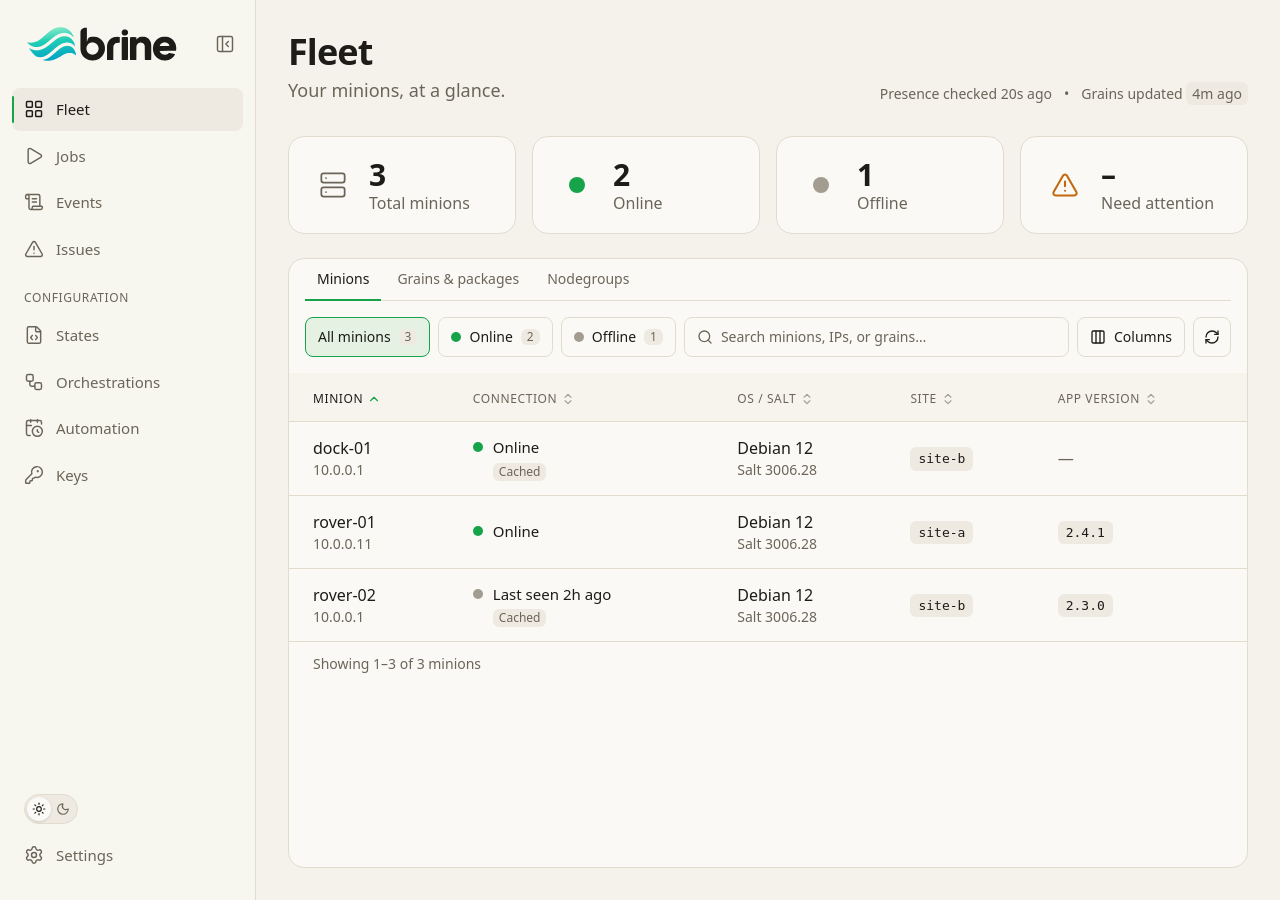
Test: FleetPage › lets you add, reorder, remove, and reset grain columns
Expected: the link "rover-01" is shown, [313, 510, 376, 532]
Click the button "Columns".
click(1131, 337)  # box [1077, 317, 1185, 357]
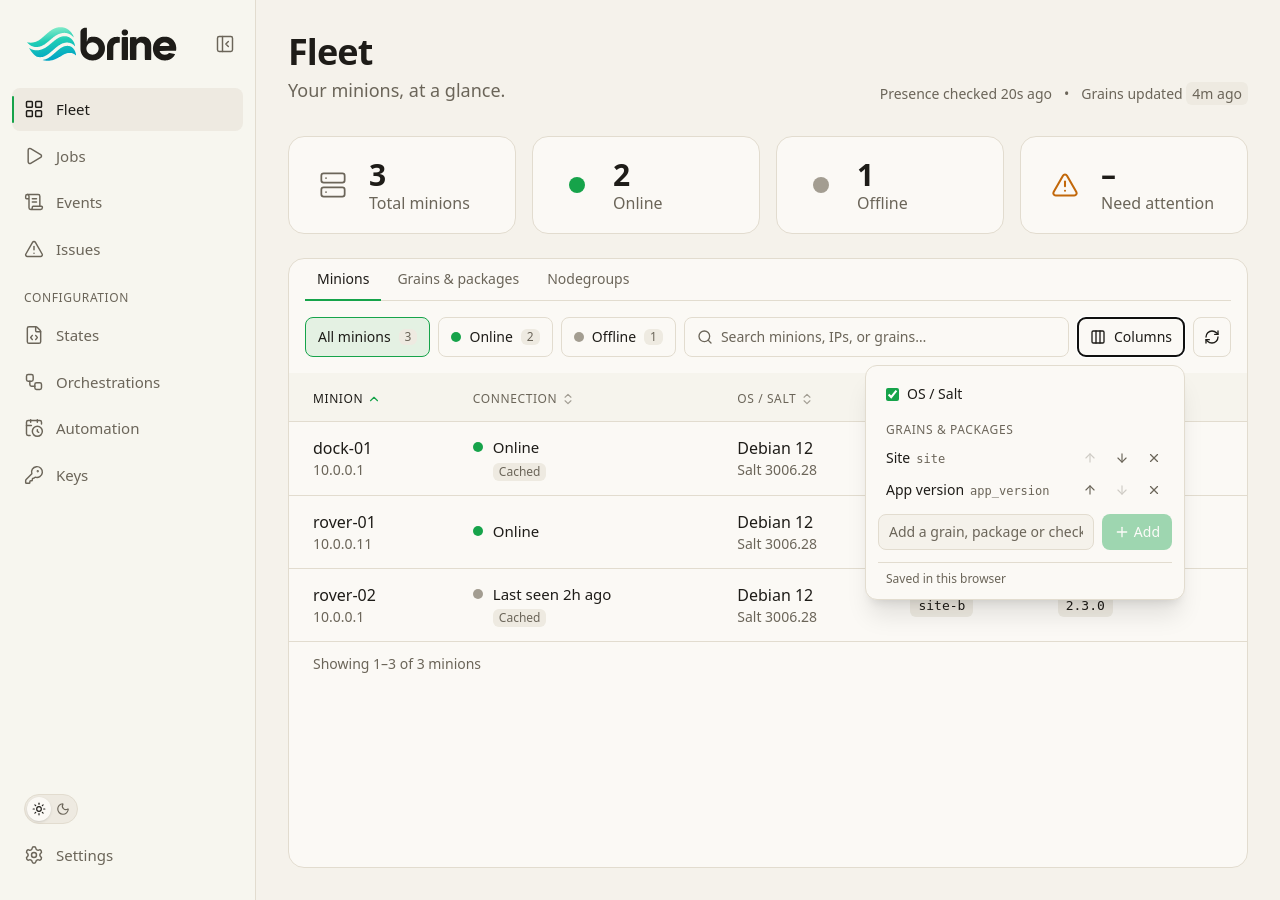
Type "osfinger" into the dropdown labelled "Add a grain, package or check".
click(986, 532); type("osfinger")  # box [878, 514, 1094, 550]
Then press Enter
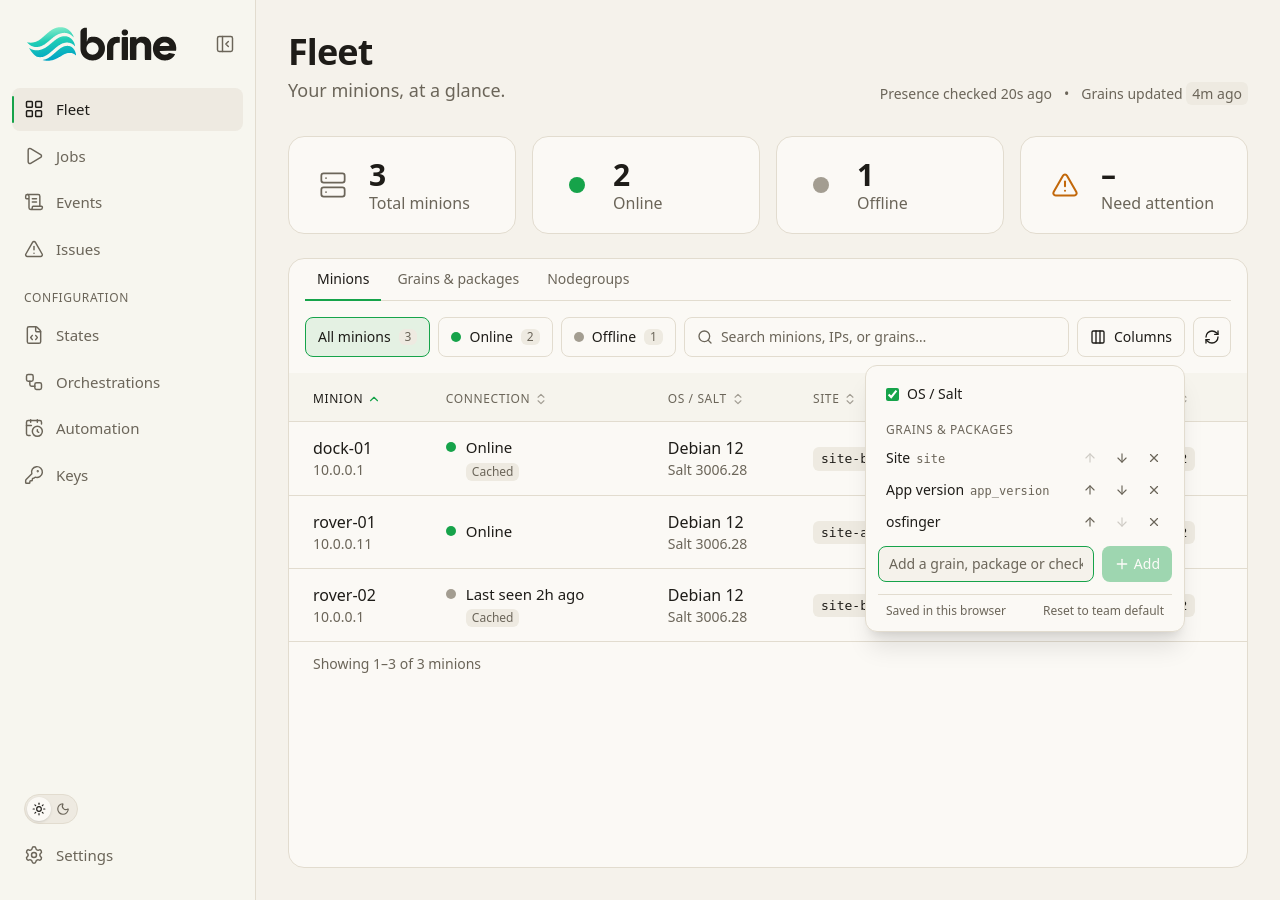
Expected: the column heading "osfinger" is shown, [1093, 373, 1247, 422]
Click the button named "Move osfinger left".
click(1090, 522)  # box [1076, 508, 1104, 536]
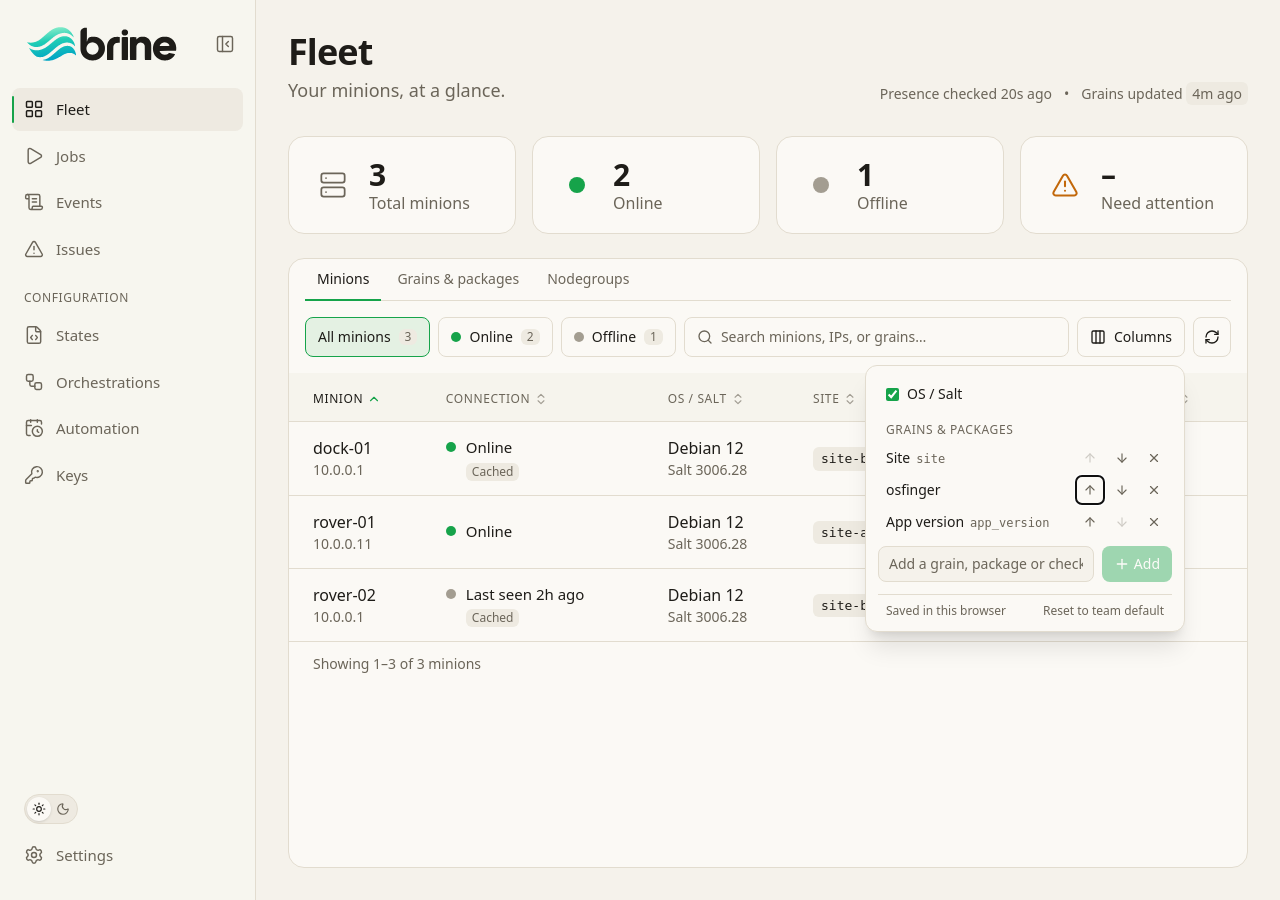
Expected: the column headings read "Minion", "Connection", "OS / Salt", "Site", "osfinger", "App version", in this order, [289, 373, 430, 422]; [430, 373, 652, 422]; [652, 373, 797, 422]; [797, 373, 921, 422]; [921, 373, 1075, 422]; [1075, 373, 1247, 422]
Click the button named "Remove Site".
click(1154, 458)  # box [1140, 444, 1168, 472]
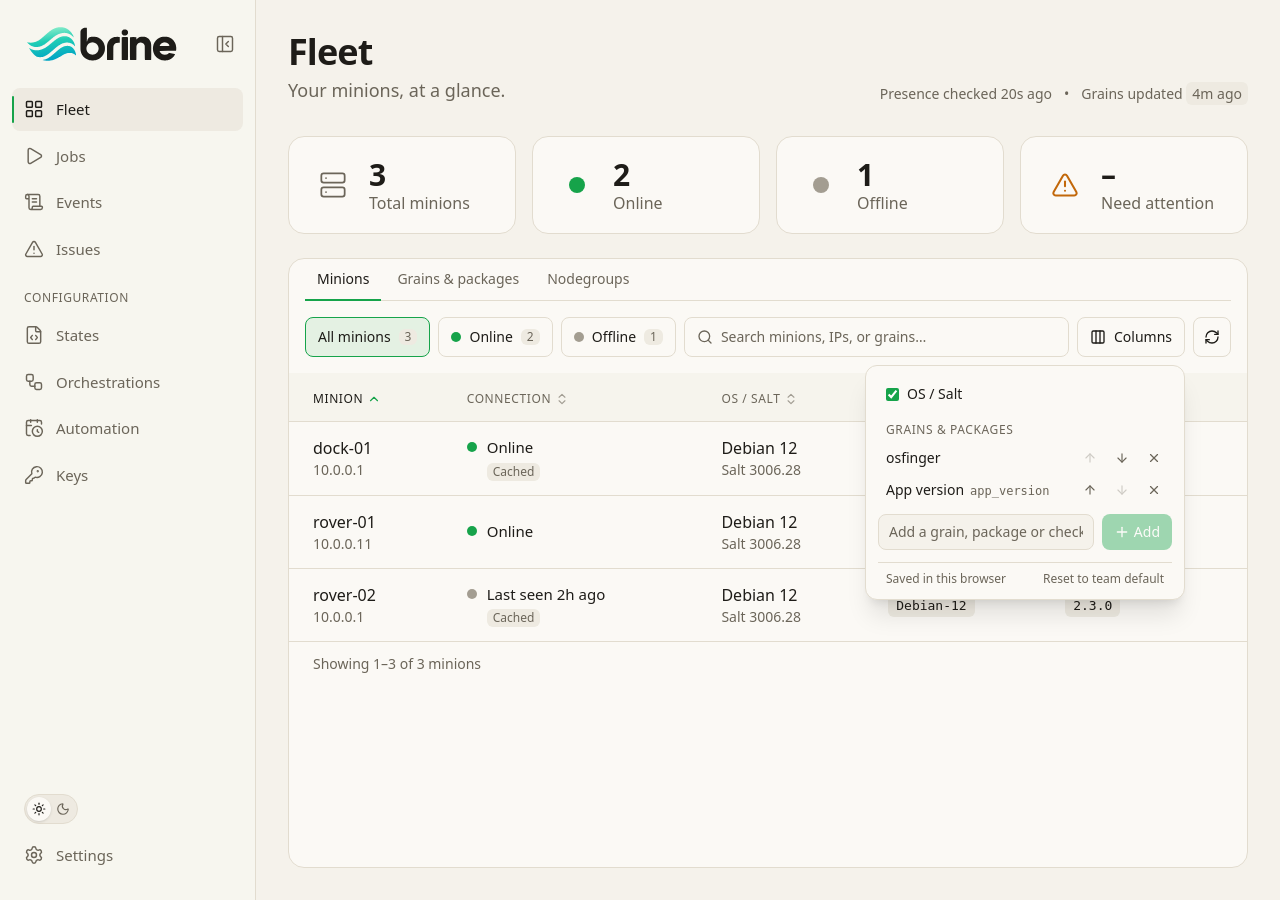
Expected: the text "site" is gone
Click the button "Reset to team default".
click(1104, 579)  # box [1043, 571, 1164, 587]
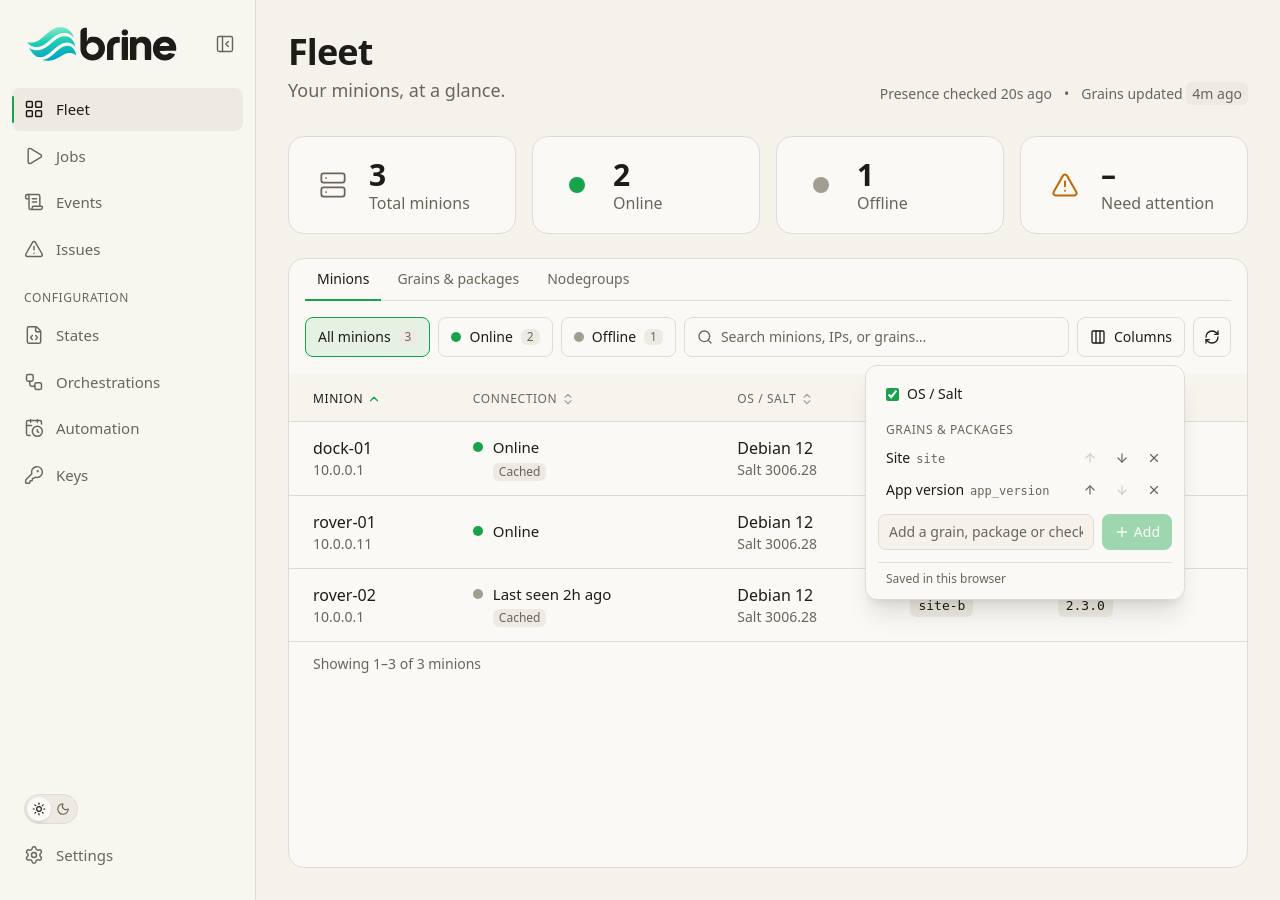
Expected: the column heading "Site" is shown, [894, 373, 1042, 422]
Expected: the text "osfinger" is gone
